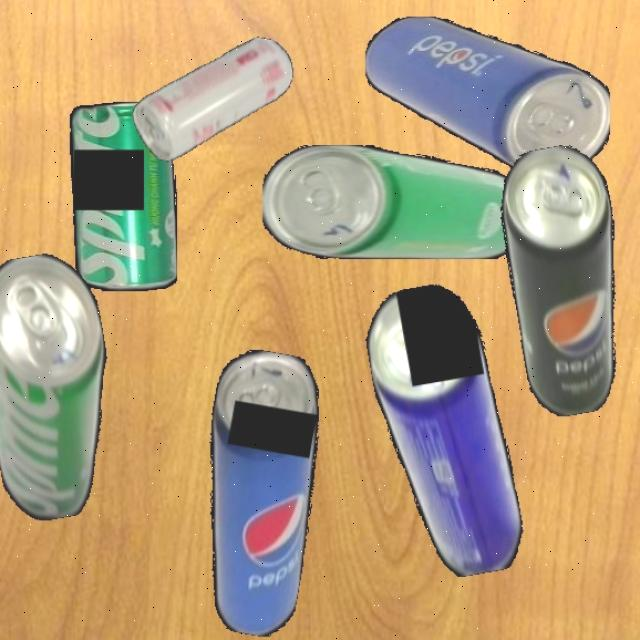debris: (359, 277, 529, 586), (176, 344, 338, 640), (489, 140, 640, 420), (364, 17, 610, 174), (0, 247, 133, 526), (262, 144, 530, 259), (126, 19, 298, 179), (69, 102, 177, 291)
